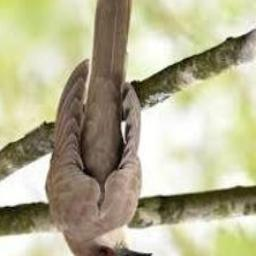Cuckoo: (46, 0, 152, 256)
